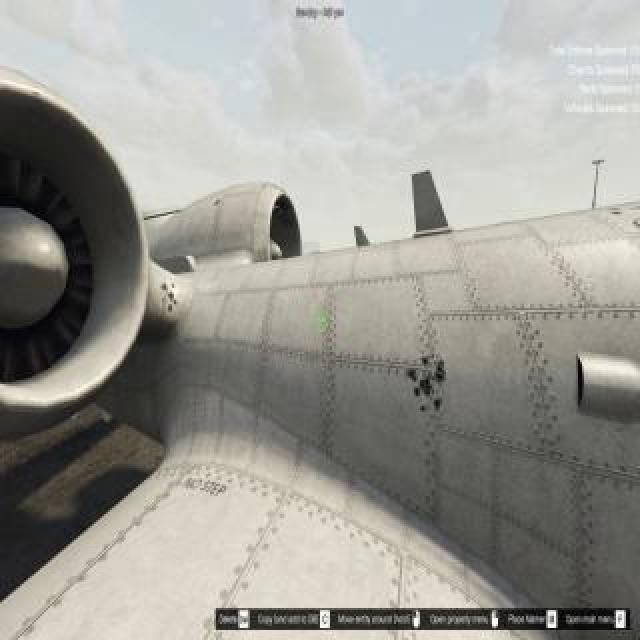crack: (436, 364, 448, 382), (408, 365, 420, 383), (424, 379, 432, 395), (436, 402, 444, 416), (415, 388, 423, 400), (161, 283, 169, 295), (425, 356, 433, 366), (169, 292, 177, 302), (168, 305, 176, 315), (172, 281, 176, 289)
